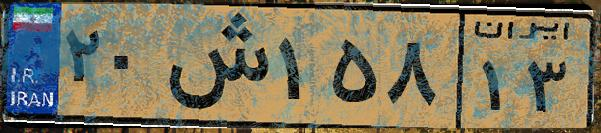0: (110, 28, 158, 98)
1: (270, 28, 330, 110), (475, 38, 525, 113)
2: (57, 26, 110, 100)
3: (525, 38, 570, 115)
5: (330, 28, 385, 110)
8: (385, 28, 445, 110)
ش: (158, 12, 270, 120)
